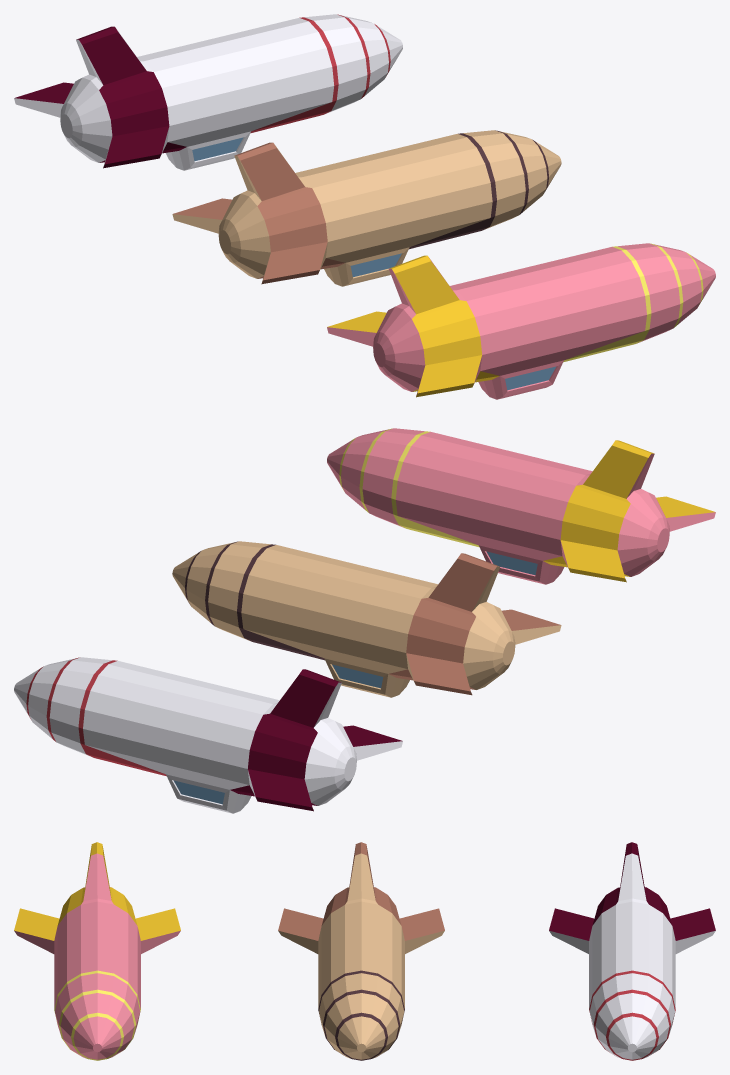
Rendered from airship.glb.
3 renders of one model, top to bottom at view 1: azimuth 30°, elevation 25°; view 2: azimuth 150°, elevation 25°; view 3: azimuth 270°, elevation 25°, orthographic. The views are drawn at different scales.
Parts seen in each view (by area): view 1: Cylinder; view 2: Cylinder; view 3: Cylinder.
Part boxes in pixels (x1,y1,x2,y2): Cylinder: (14,14,715,399); Cylinder: (14,428,715,813); Cylinder: (14,842,715,1060).
Size of the model in its own units: 12.92 by 5.67 by 26.94.
Materials: 1 (1 with a texture image).
